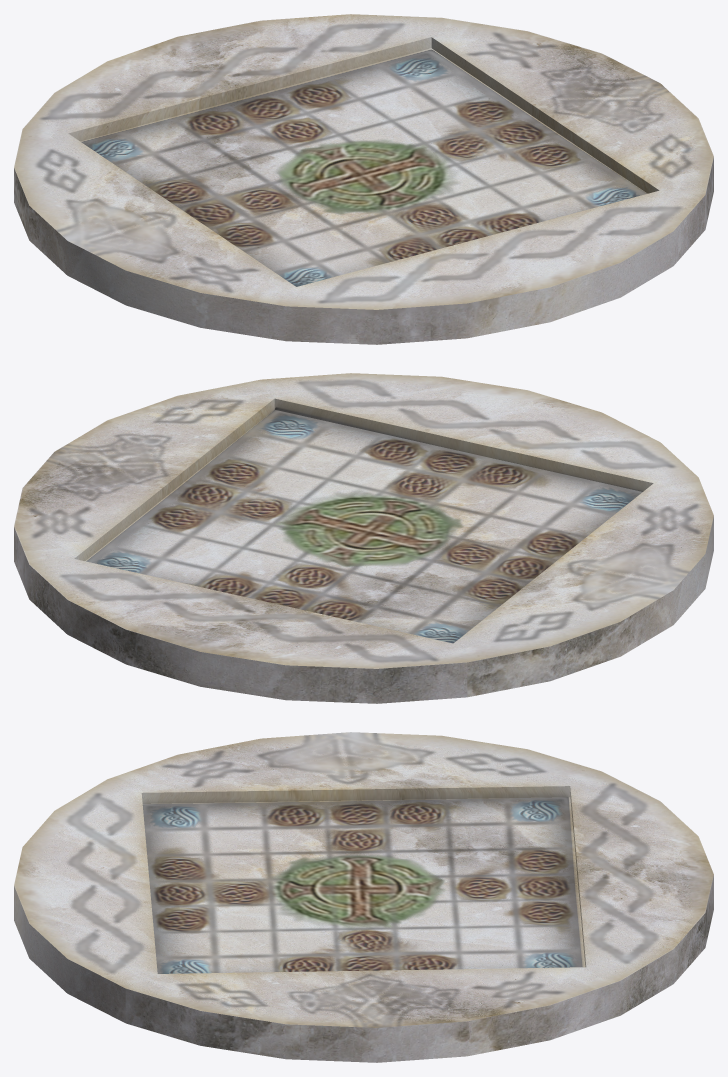
The model's file is Round_Board.fbx.
3 renders of one model, top to bottom at view 1: azimuth 30°, elevation 25°; view 2: azimuth 150°, elevation 25°; view 3: azimuth 270°, elevation 25°, orthographic.
Visible parts, largest first — view 1: Round_Board; view 2: Round_Board; view 3: Round_Board.
Boxes of the visible parts, x1=… form: Round_Board: x1=14, y1=14, x2=713, y2=344; Round_Board: x1=14, y1=373, x2=713, y2=703; Round_Board: x1=14, y1=732, x2=713, y2=1062.
Bounding box in the file's own units: 192 × 10.54 × 192.
1 material, 1 textured.
